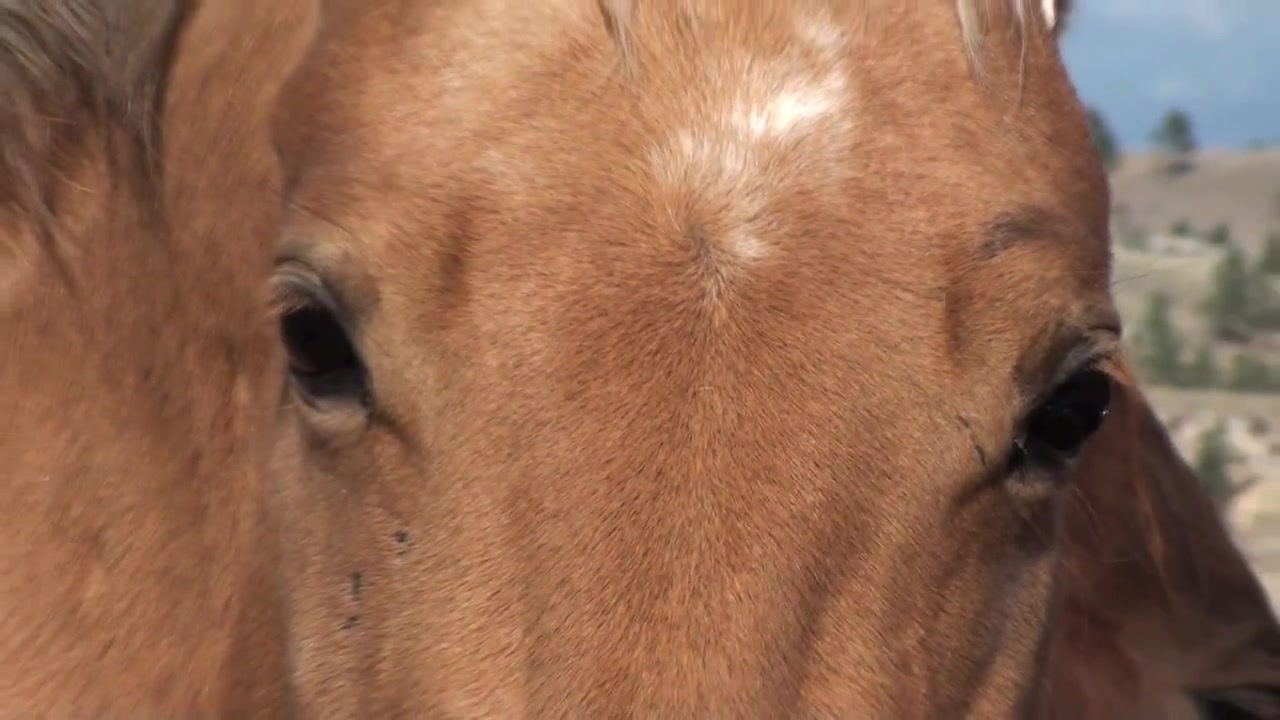horse: (3, 3, 1280, 719)
